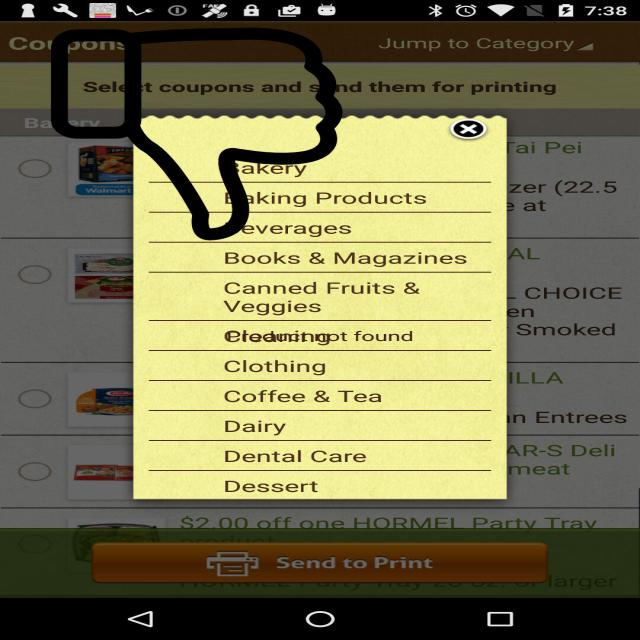obstruction: (46, 28, 346, 240)
